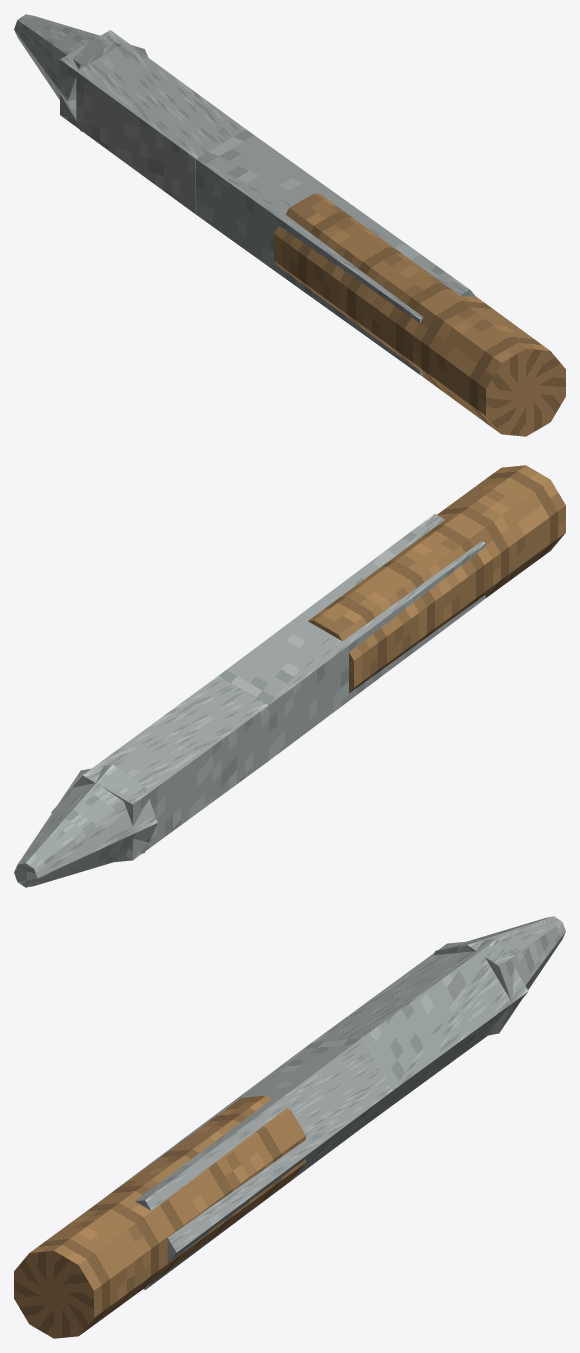
File: awl_steel.glb
The picture shows the model from 3 angles, top to bottom: view 1: azimuth 30°, elevation 25°; view 2: azimuth 150°, elevation 25°; view 3: azimuth 330°, elevation 25°; orthographic projection.
Parts seen in each view (by area): view 1: block_hand grip, block_steel shaft 0, block_steel shaft 1, block_working tip; view 2: block_hand grip, block_steel shaft 0, block_steel shaft 1, block_working tip; view 3: block_hand grip, block_steel shaft 1, block_steel shaft 0, block_working tip.
Boxes of the visible parts, x1,y1,x2,y2 form: block_hand grip: (274,193,565,436); block_steel shaft 0: (60,30,245,214); block_steel shaft 1: (196,129,476,375); block_working tip: (14,14,148,131); block_hand grip: (308,465,565,693); block_steel shaft 0: (51,676,268,862); block_steel shaft 1: (218,514,485,760); block_working tip: (14,764,157,887); block_hand grip: (14,1095,305,1338); block_steel shaft 1: (102,1038,392,1289); block_steel shaft 0: (311,938,528,1127); block_working tip: (433,916,565,1035).
Bounding box in the file's own units: 0.0141 × 0.0136 × 0.13.
Materials: 1 (1 with a texture image).
